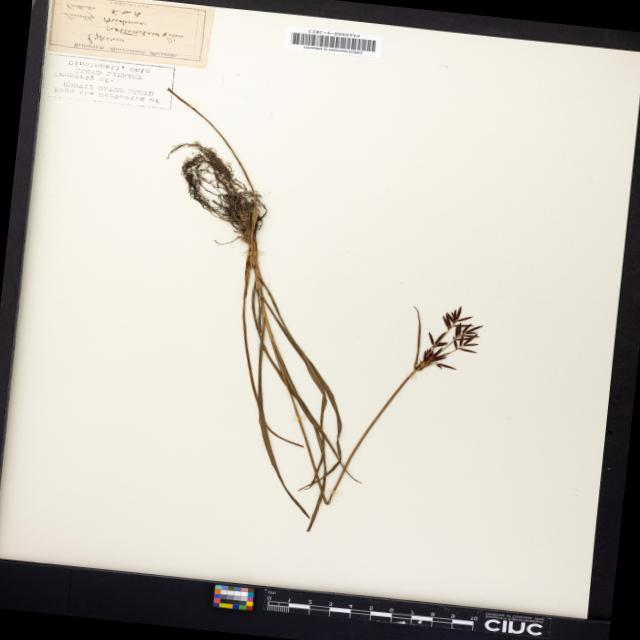cyperus: (398, 298, 498, 384)
